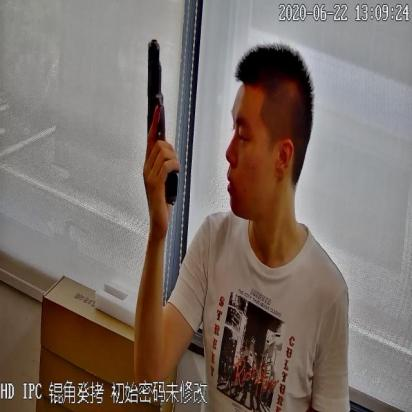Gun: (135, 34, 182, 208)
